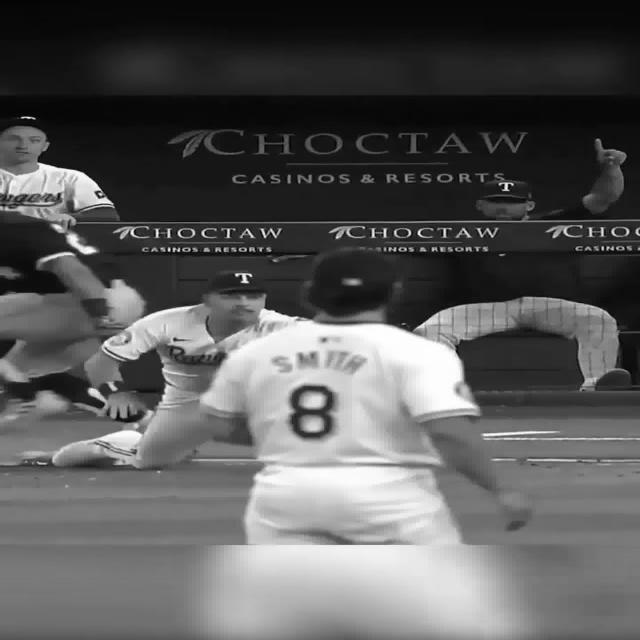shoe: (58, 434, 150, 461), (576, 372, 630, 391)
